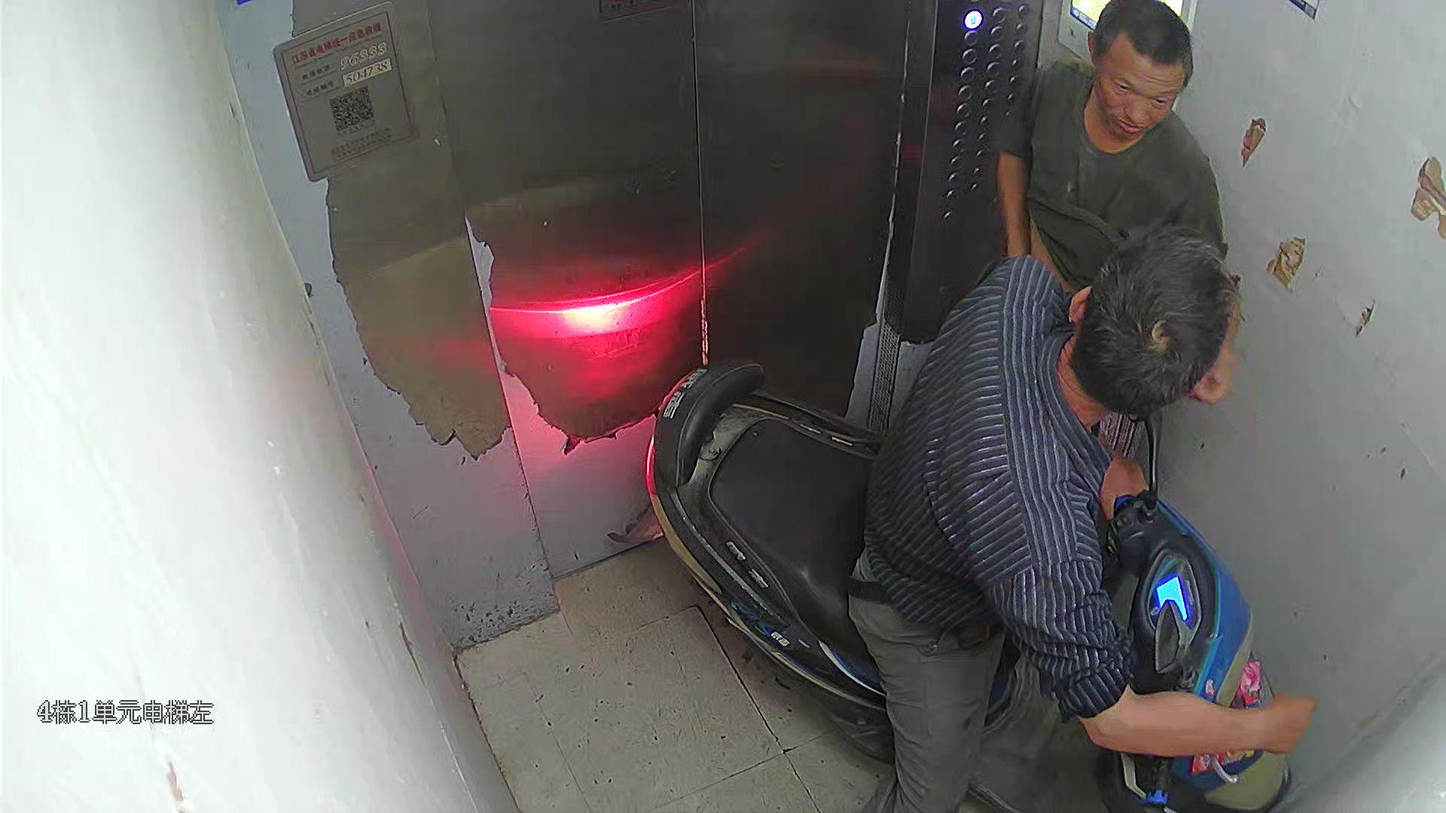Electric-bicycle: (654, 361, 1272, 792)
